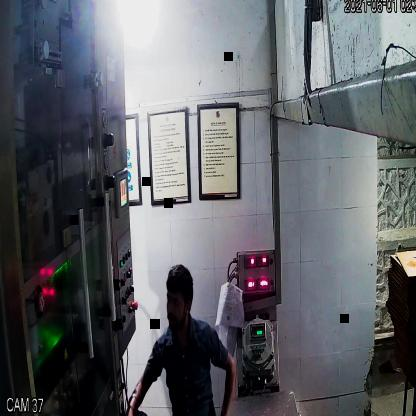no_goggles: (164, 288, 194, 313)
